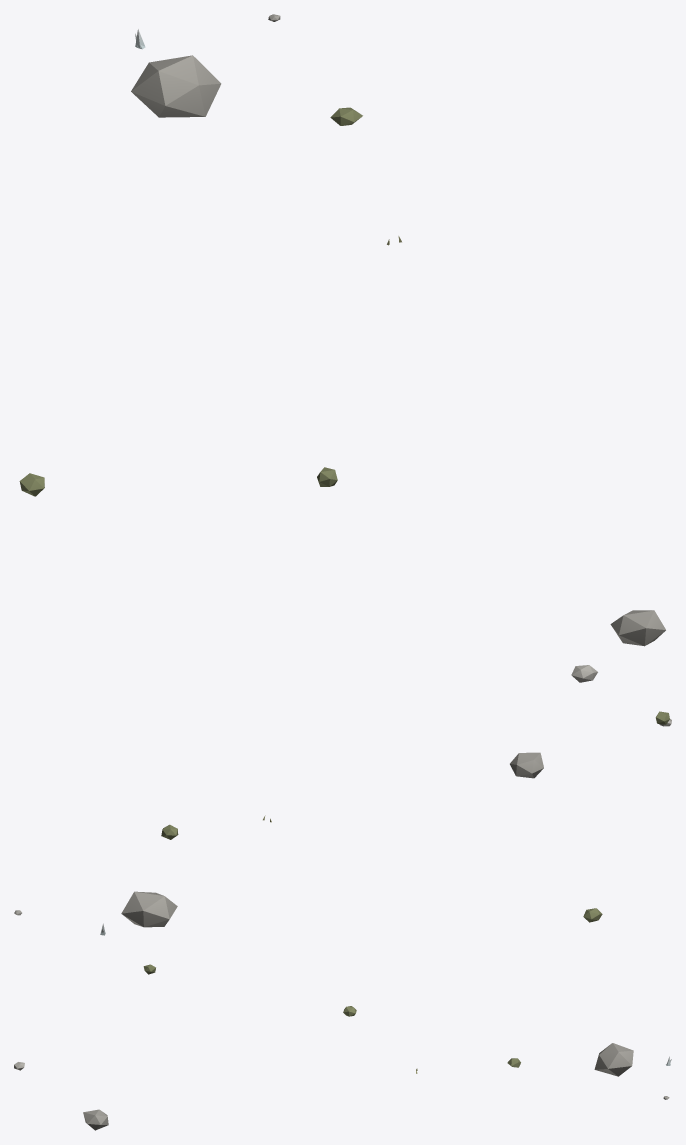
File: coast_land_scatter_c14_19_lod1.glb
3 views of the same model, one above another, from view 1: azimuth 30°, elevation 25°; view 2: azimuth 150°, elevation 25°; view 3: azimuth 270°, elevation 25° (orthographic). The views are drawn at different scales.
Visible parts, largest first — view 1: coast_land_scatter_c14_19_lod1; view 2: coast_land_scatter_c14_19_lod1; view 3: coast_land_scatter_c14_19_lod1.
Boxes of the visible parts, x1,y1,x2,y2 form: coast_land_scatter_c14_19_lod1: (19, 14, 665, 682); coast_land_scatter_c14_19_lod1: (14, 711, 671, 935); coast_land_scatter_c14_19_lod1: (14, 964, 671, 1130).
Size of the model in its own units: 38.11 by 12.55 by 75.62.
